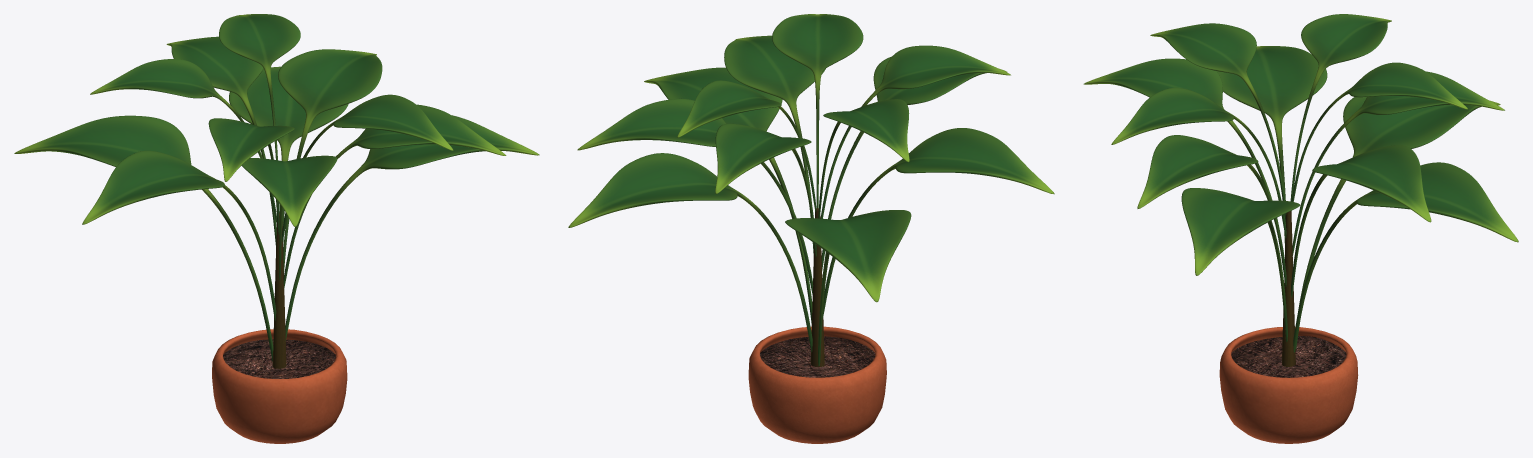
Rendered from plant1.fbx.
3 views of the same model, side by side, from view 1: azimuth 30°, elevation 25°; view 2: azimuth 150°, elevation 25°; view 3: azimuth 270°, elevation 25° (orthographic). The views are drawn at different scales.
Visible parts, largest first — view 1: PlantLarge1_Circle.003, PotLarge_Vert.004, PotDirtLarge1_Circle.010, PlantLarge1Stem_Cylinder.005; view 2: PlantLarge1_Circle.003, PotLarge_Vert.004, PotDirtLarge1_Circle.010, PlantLarge1Stem_Cylinder.005; view 3: PlantLarge1_Circle.003, PotLarge_Vert.004, PotDirtLarge1_Circle.010, PlantLarge1Stem_Cylinder.005.
Part boxes in pixels (box(x1,y1,x2,y2)): PlantLarge1_Circle.003: box(14, 14, 539, 361); PotLarge_Vert.004: box(212, 329, 347, 443); PotDirtLarge1_Circle.010: box(223, 339, 335, 378); PlantLarge1Stem_Cylinder.005: box(272, 213, 286, 368); PlantLarge1_Circle.003: box(568, 14, 1054, 365); PotLarge_Vert.004: box(748, 326, 886, 443); PotDirtLarge1_Circle.010: box(760, 336, 875, 377); PlantLarge1Stem_Cylinder.005: box(810, 208, 824, 366); PlantLarge1_Circle.003: box(1083, 14, 1518, 352); PotLarge_Vert.004: box(1219, 327, 1358, 443); PotDirtLarge1_Circle.010: box(1231, 336, 1346, 377); PlantLarge1Stem_Cylinder.005: box(1282, 211, 1295, 366).
Bounding box in the file's own units: 2169 × 1736 × 1866.
